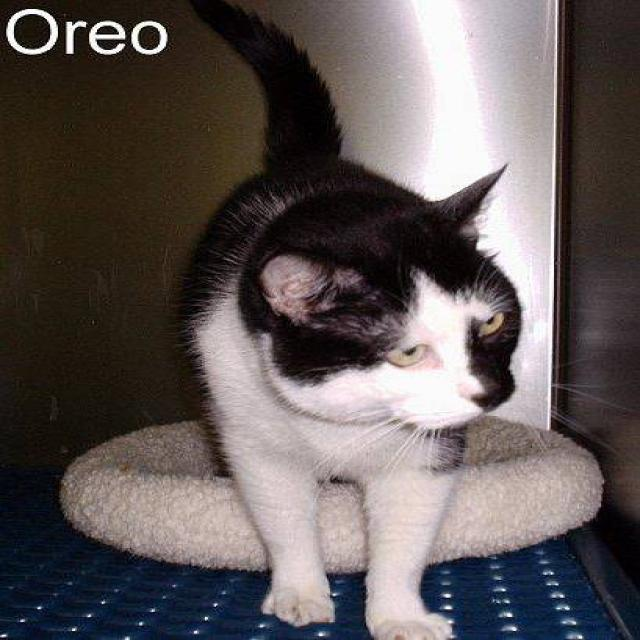cat: (178, 0, 523, 639)
